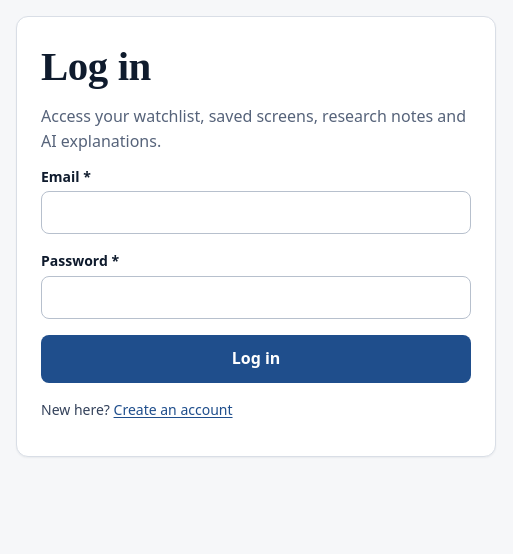
Test: login form › shows server error for wrong credentials
The width and height of the screenshot is (513, 554).
Click the button "Log in" at (256, 359), box [41,335,471,383]
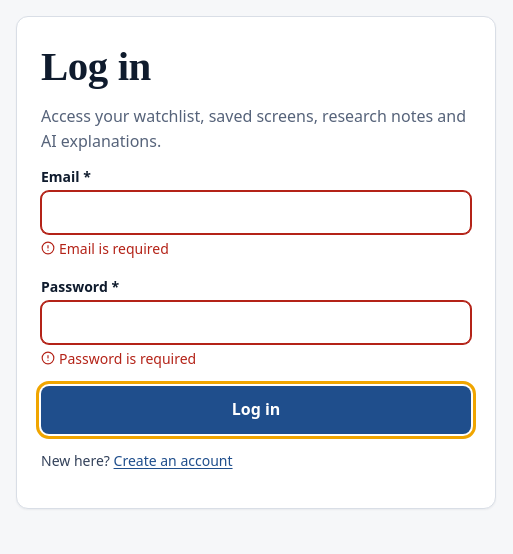
expect the text "Email is required" is shown: met, box [41,239,169,258]
Type "a@b.co" into the field labelled "Email *" at (256, 213), box [41,191,471,234]
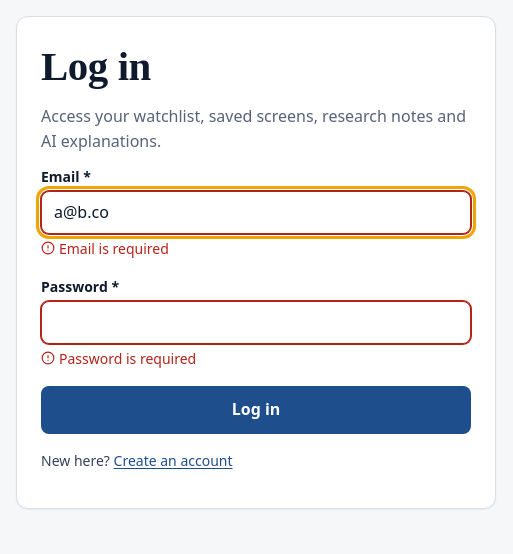
Type "wrong" into the password field labelled "Password *" at (256, 323), box [41,302,471,344]
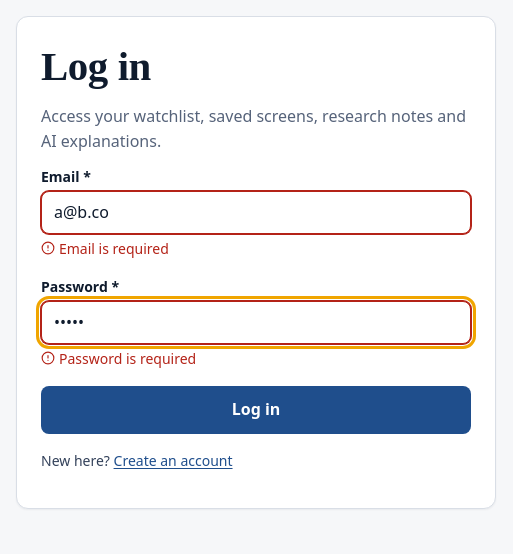
Click the button "Log in" at (256, 410), box [41,386,471,434]
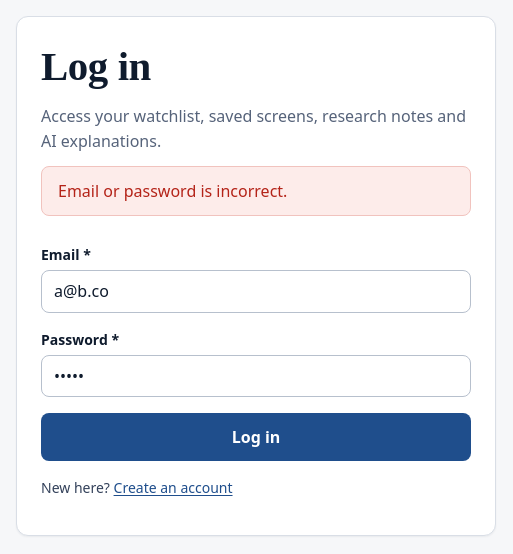
expect the message reads "Email or password is incorrect.": met, box [58,180,287,202]
